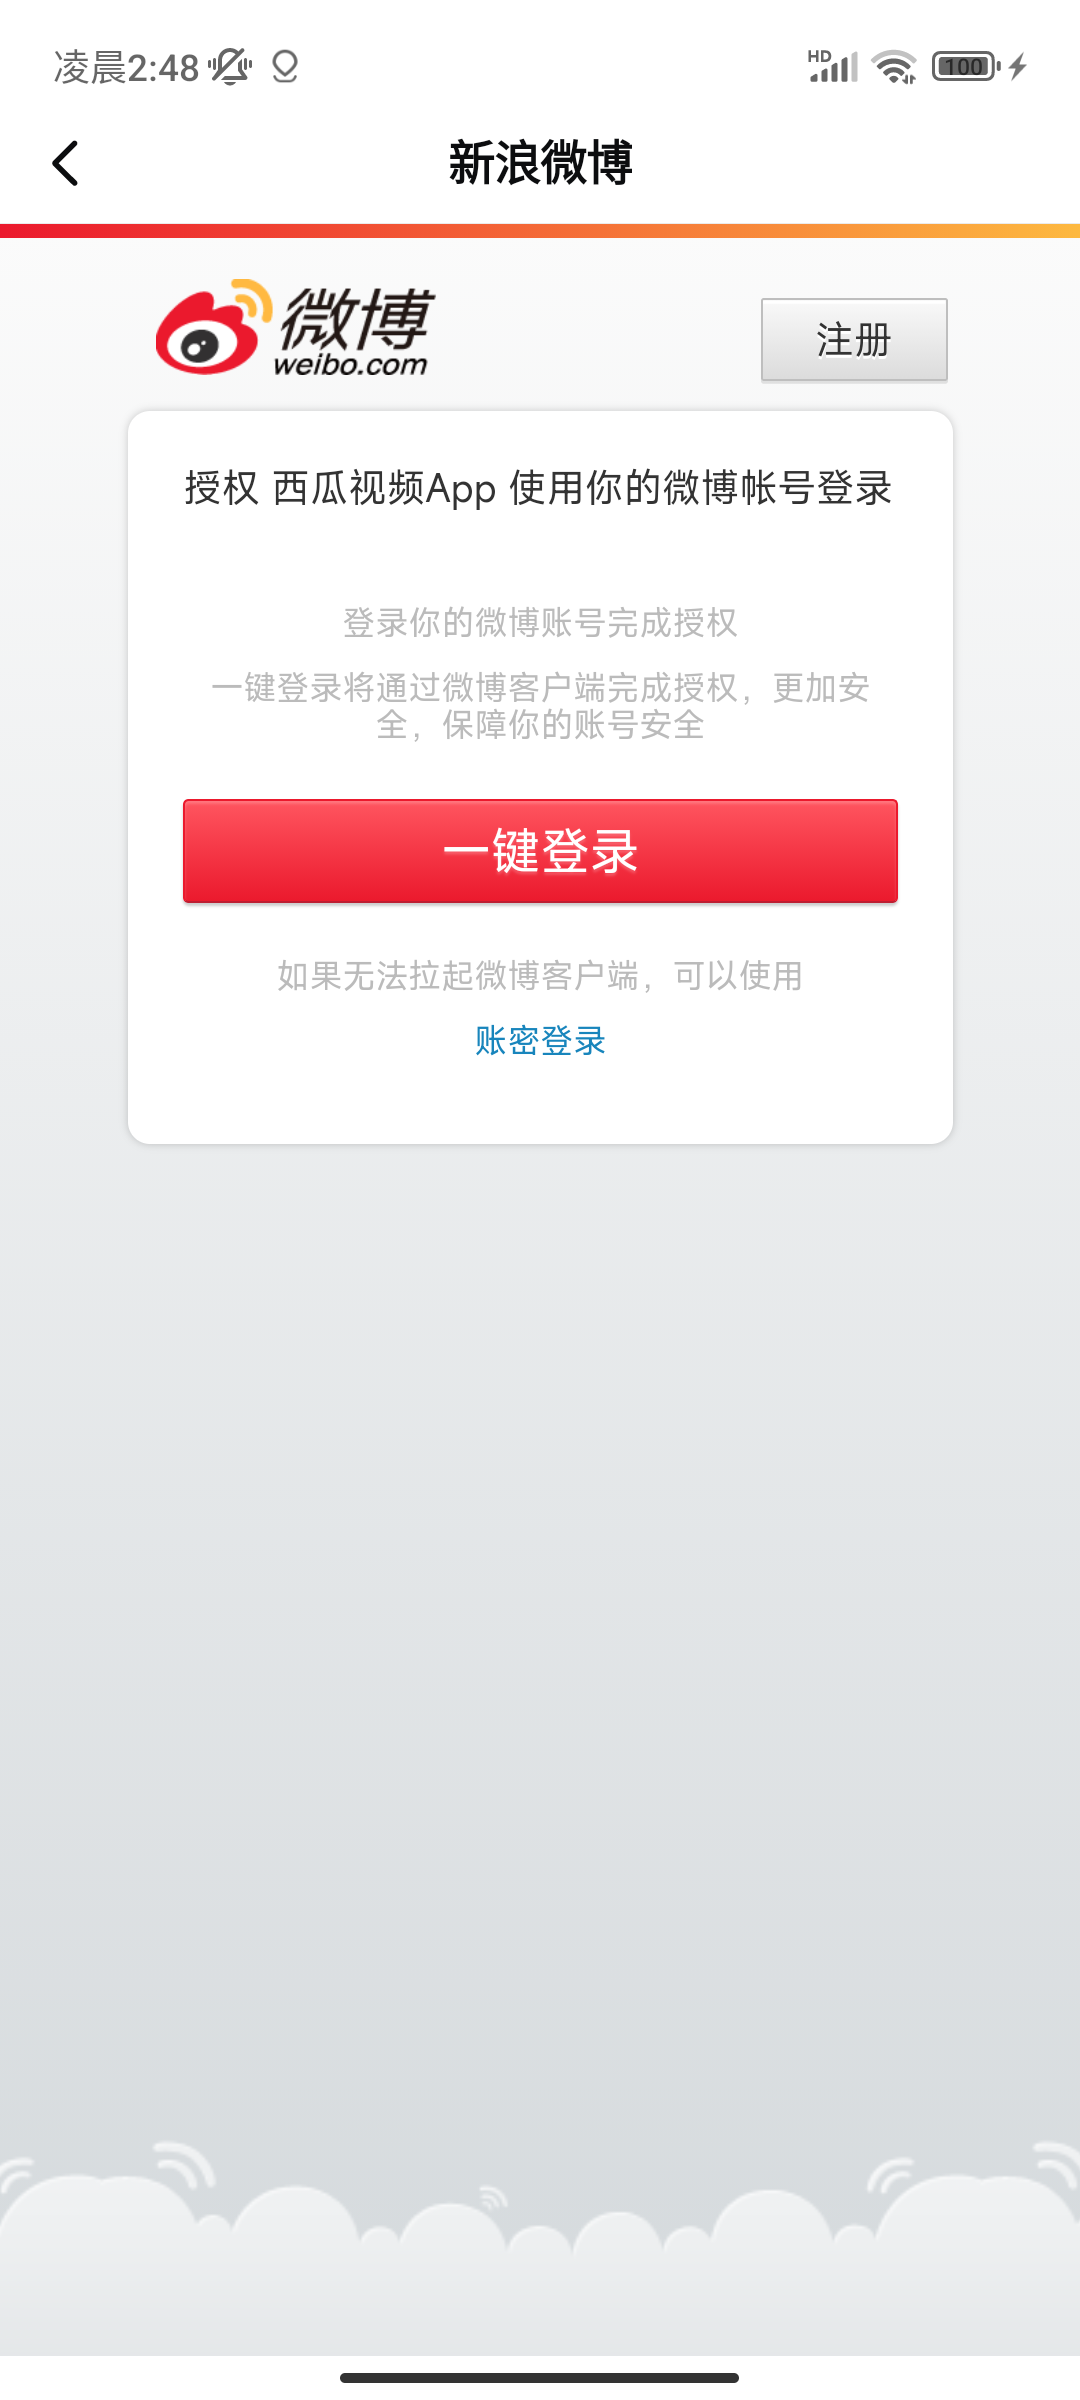ui_group: (133, 432, 938, 1136), (136, 262, 961, 398)
